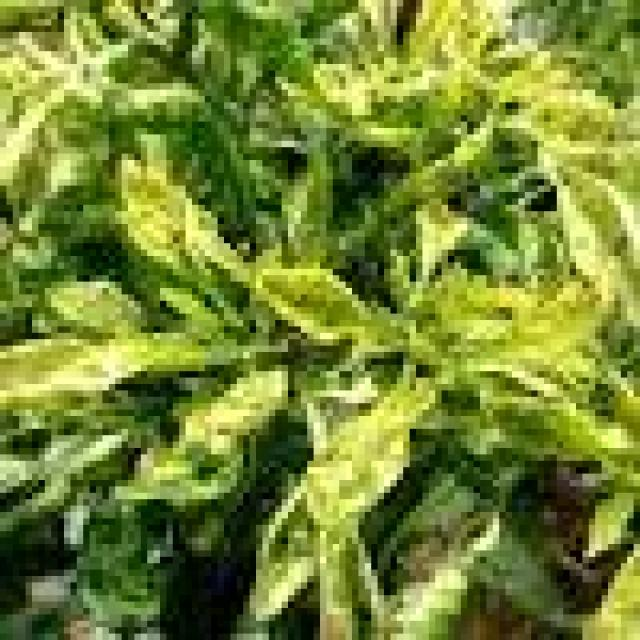virus_kuning: (312, 373, 432, 526), (258, 253, 382, 358)
